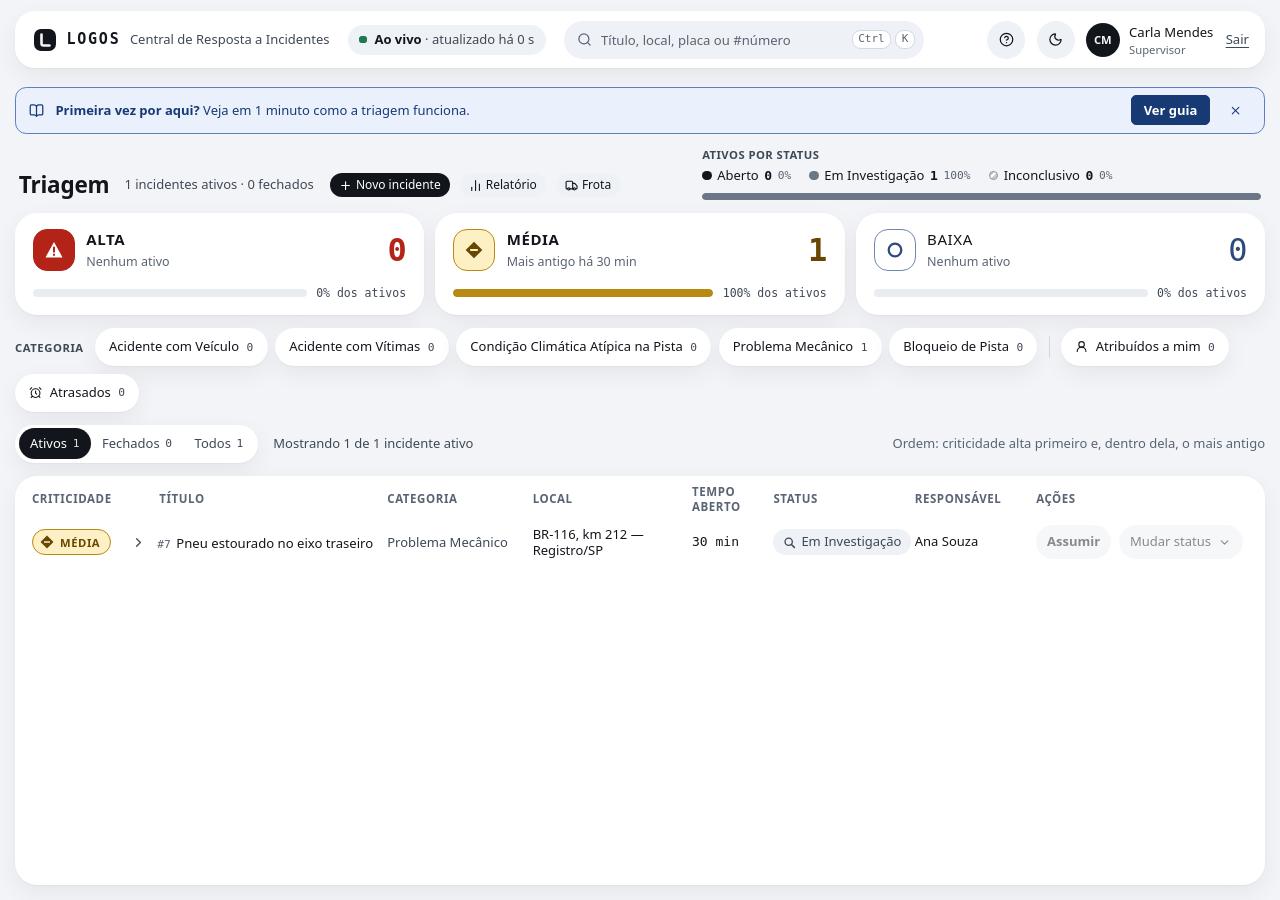
it: TelaTriagem — transferir (supervisor) › a supervisora escolhe o novo responsável e a linha muda na hora
Click the button named "Ver detalhes de #7". click: (138, 542)
box: [125, 529, 152, 555]
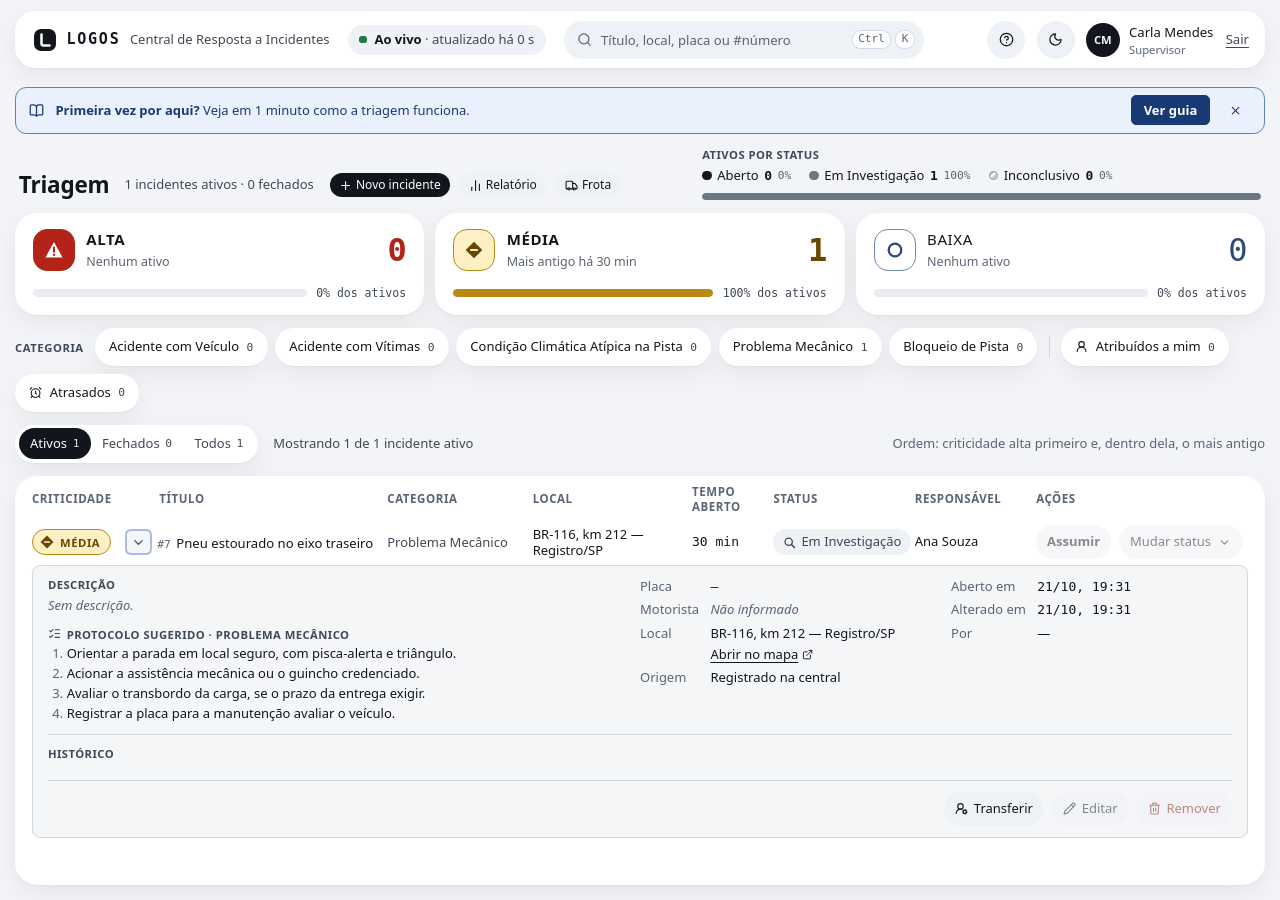
Click the button with aria-label "Transferir #7". click: (994, 809)
box: [944, 792, 1044, 826]
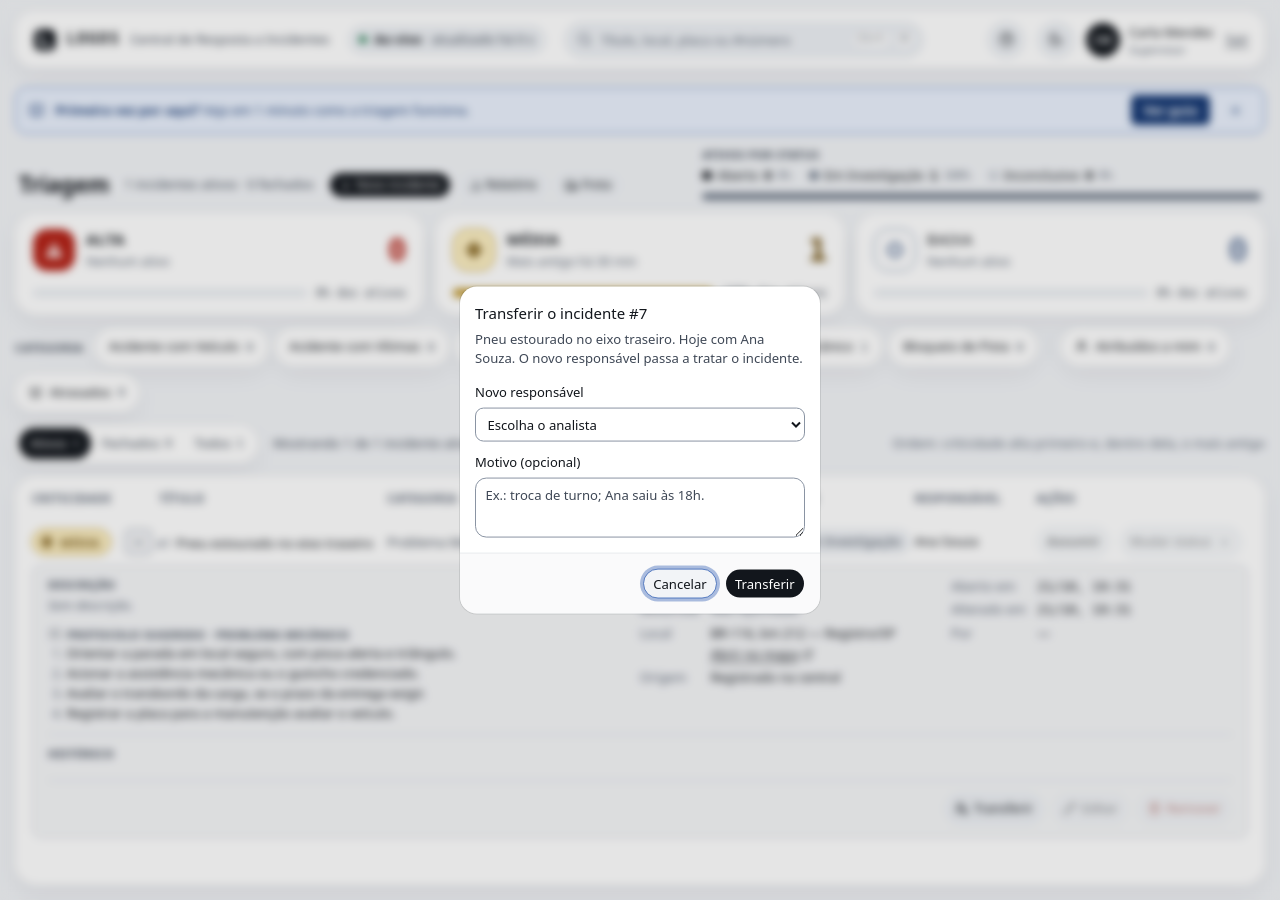
# Sem escolher, não envia.
Click the button "Transferir". click: (765, 583)
box: [725, 568, 805, 598]
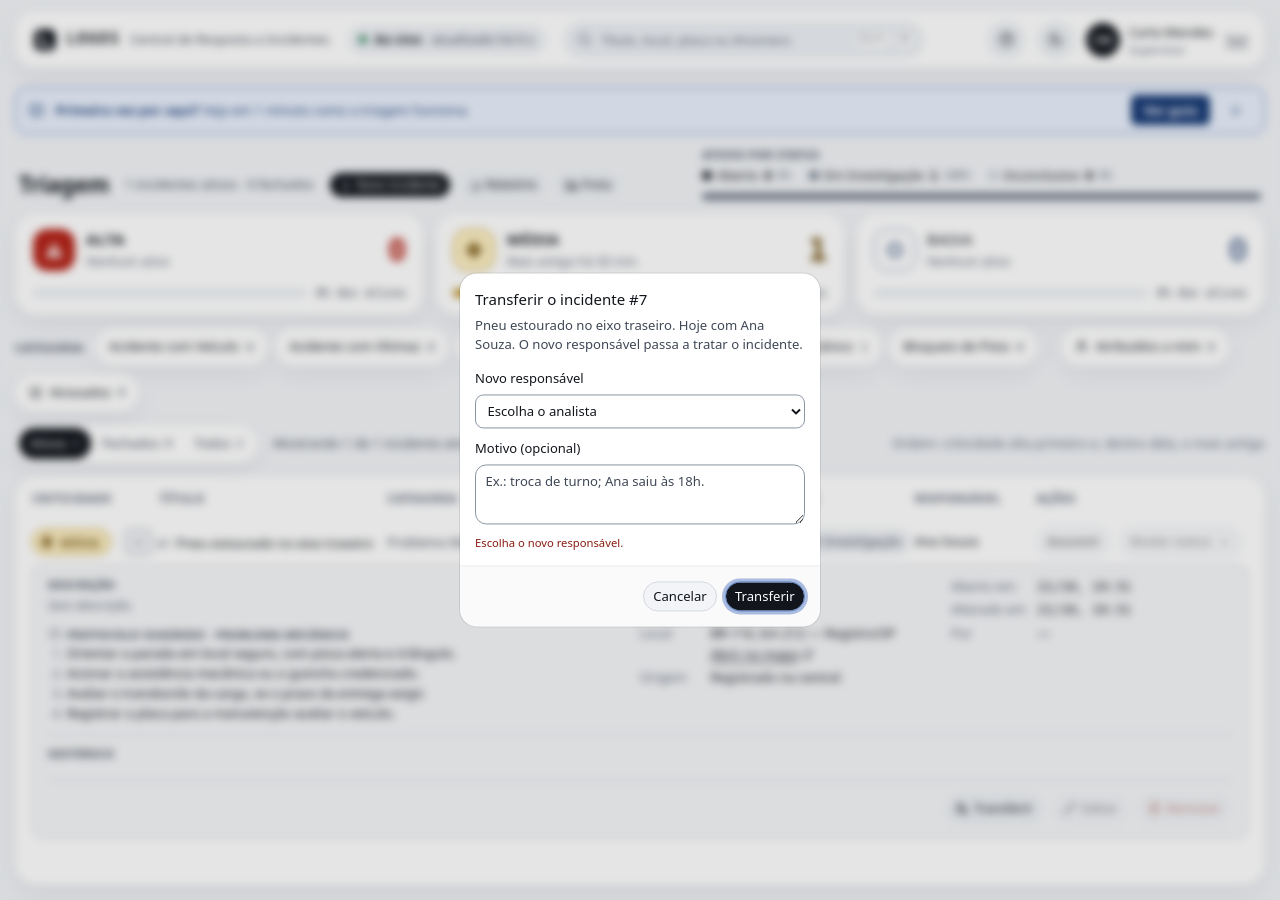
Now the message reads "Escolha o novo responsável.", box [475, 536, 623, 551]
Select "Bruno Lima" in the dropdown labelled "Novo responsável". click: (640, 411)
box: [475, 394, 805, 428]
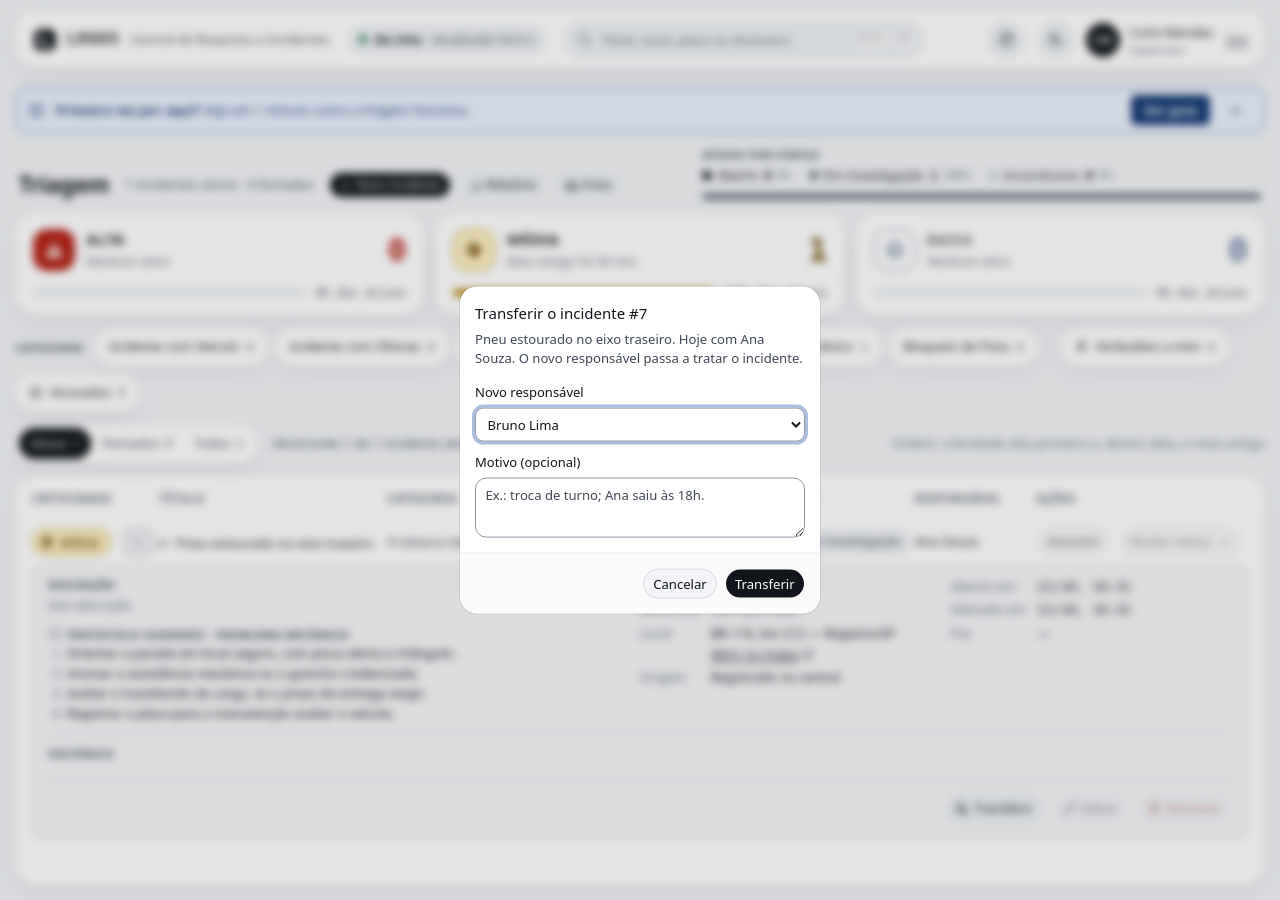
Type "Troca de turno" into the text box. click: (640, 507)
box: [475, 477, 805, 537]
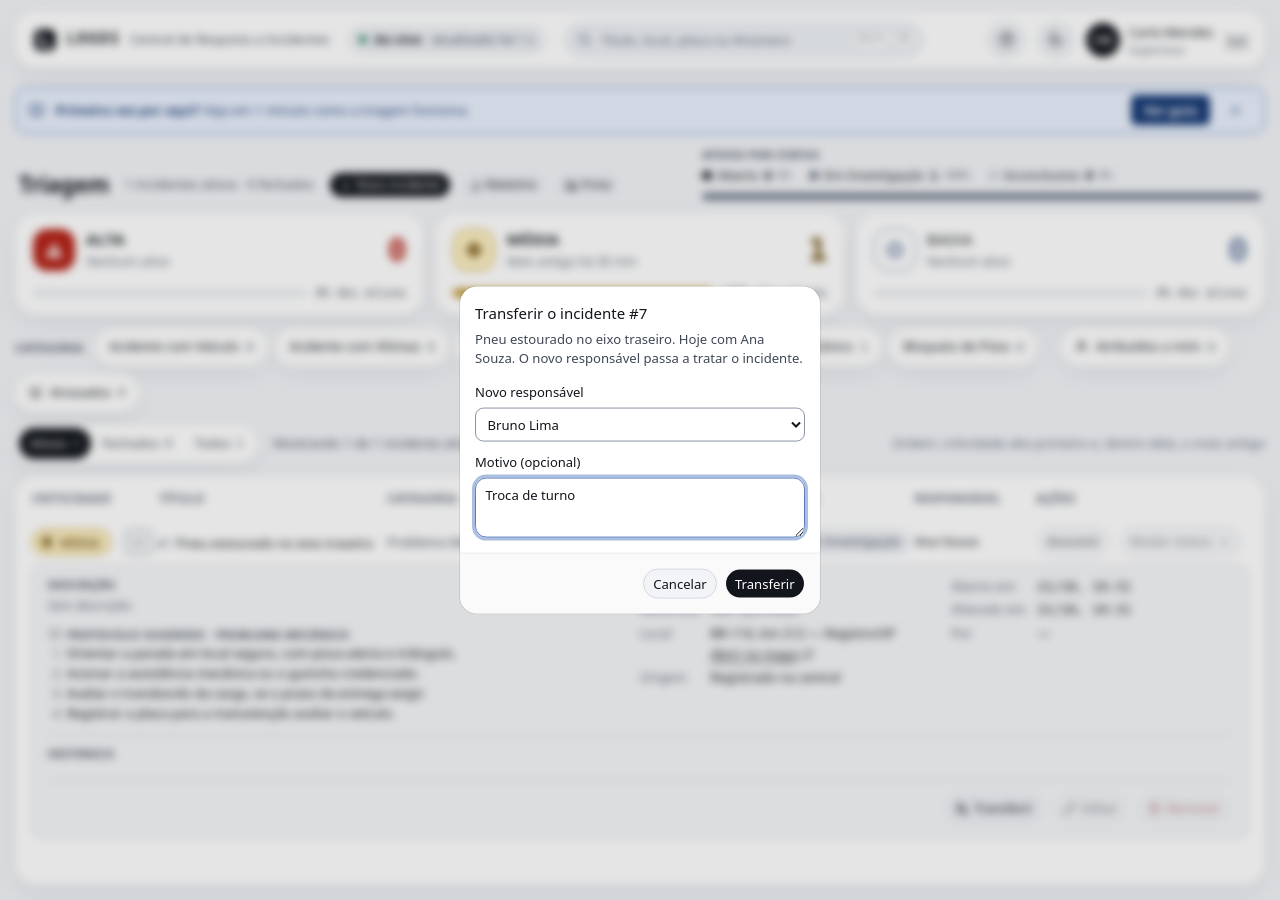
Click the button "Transferir". click: (765, 583)
box: [725, 568, 805, 598]
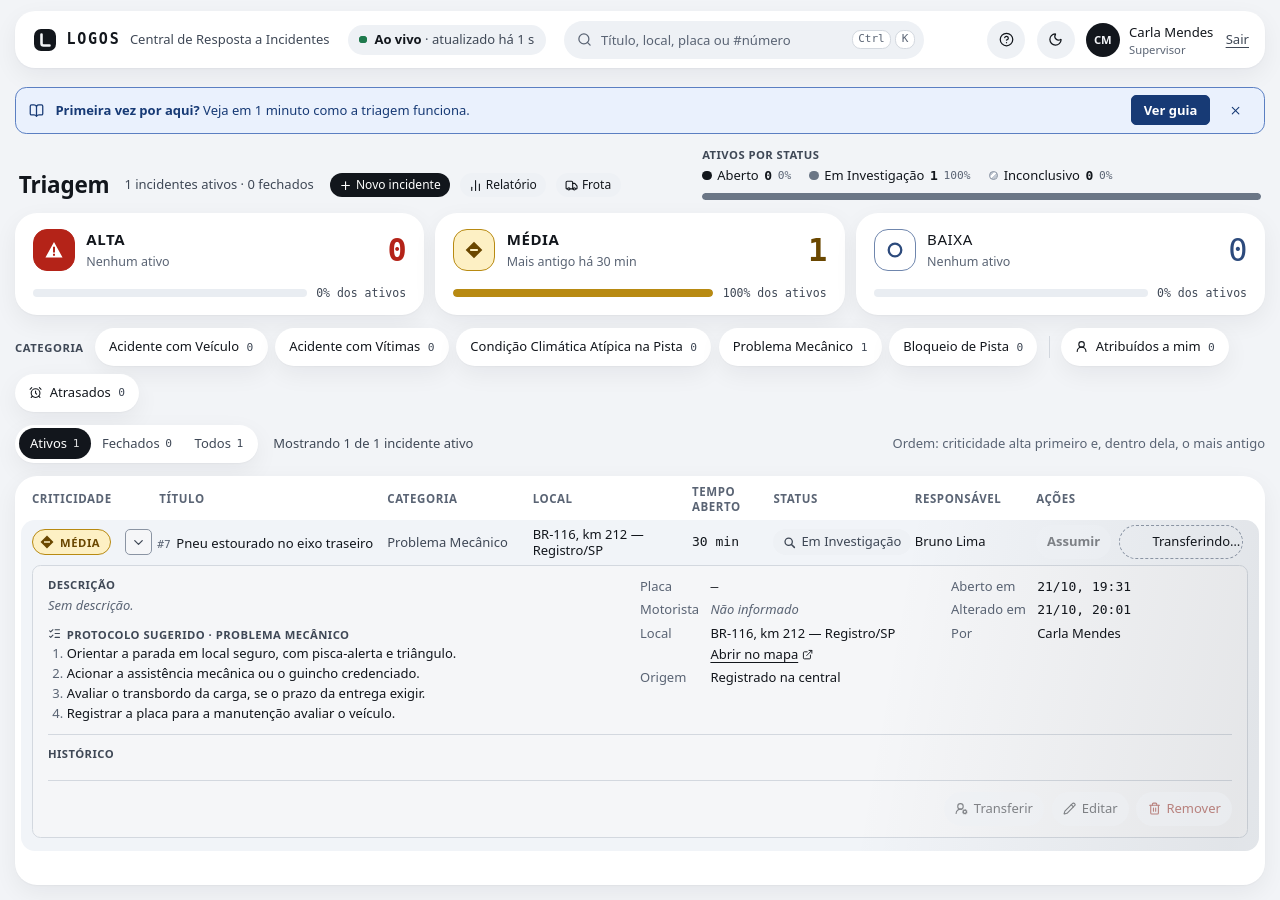
Now the text "Bruno Lima" is shown, box [915, 532, 986, 550]
